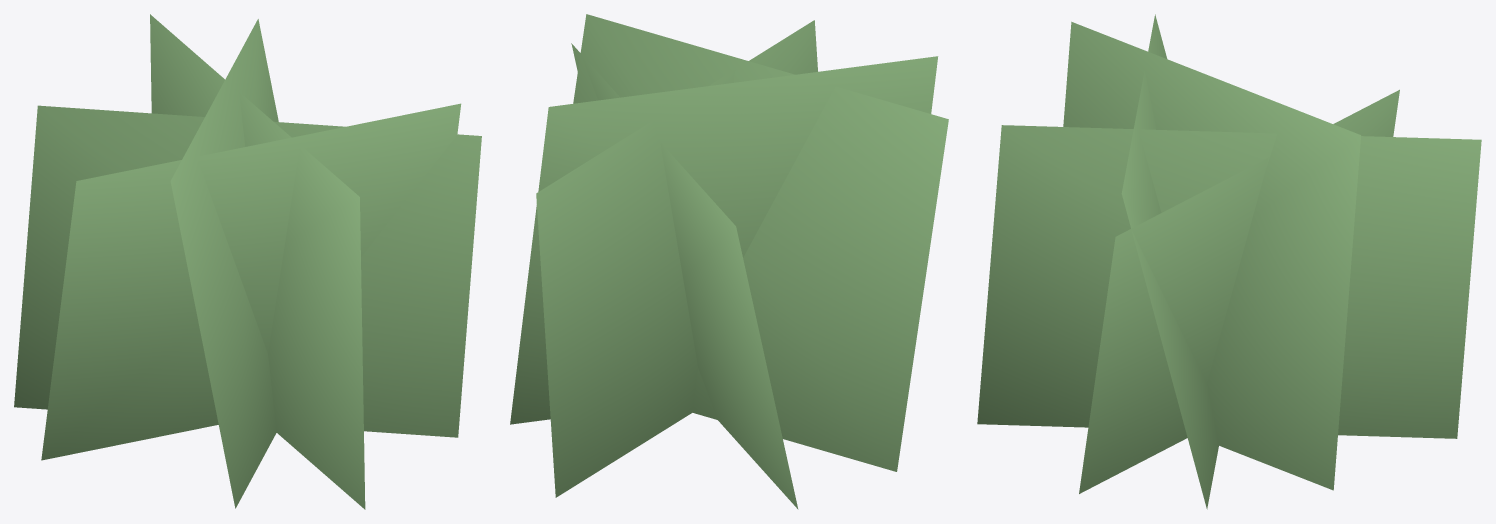
Rendered from bush_berry_empty.glb.
The picture shows the model from 3 angles, left to right: view 1: azimuth 30°, elevation 25°; view 2: azimuth 150°, elevation 25°; view 3: azimuth 270°, elevation 25°; orthographic projection. The views are drawn at different scales.
Parts seen in each view (by area): view 1: bush_berry_empty; view 2: bush_berry_empty; view 3: bush_berry_empty.
Boxes of the visible parts, x1,y1,x2,y2 form: bush_berry_empty: (14,14,481,509); bush_berry_empty: (510,14,948,509); bush_berry_empty: (977,14,1481,509).
Bounding box in the file's own units: 1.73 × 1.42 × 1.96.
